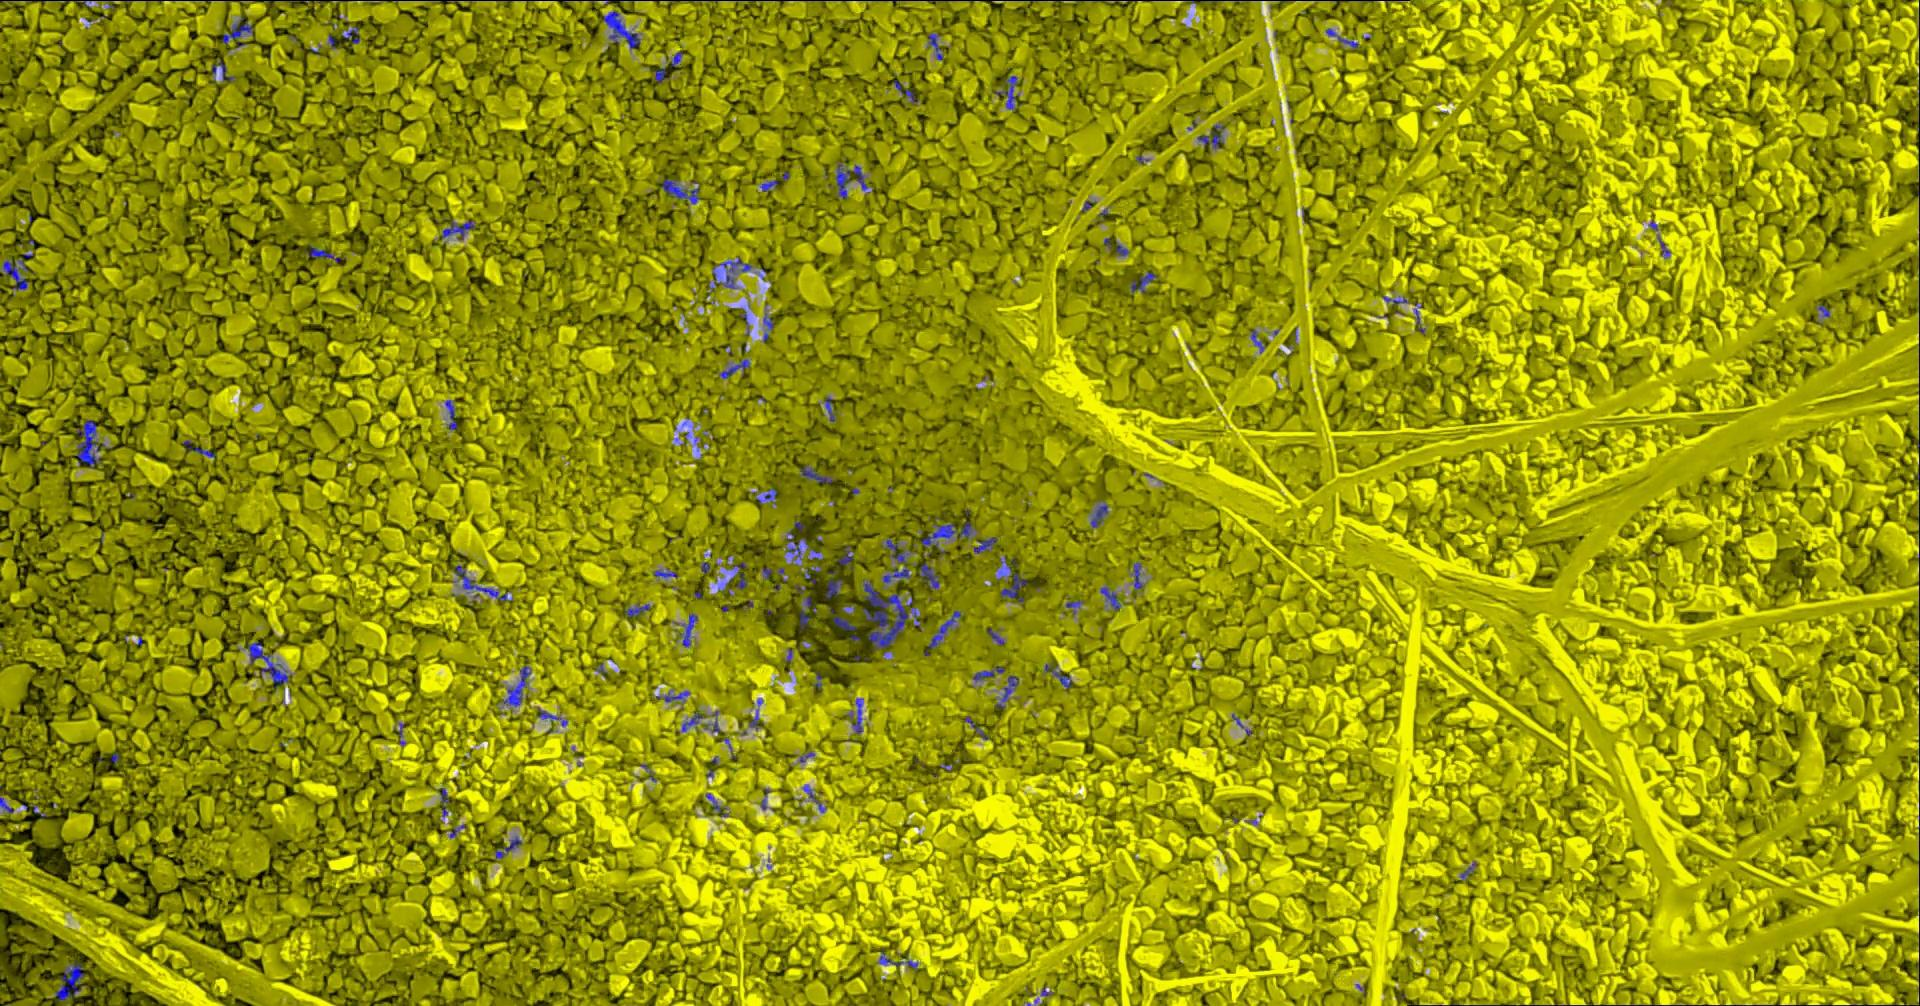ant: (243, 640, 291, 688), (919, 516, 971, 556), (455, 565, 512, 601), (923, 610, 961, 655), (707, 257, 750, 292), (75, 419, 104, 467), (602, 10, 639, 48), (883, 539, 910, 582), (502, 666, 530, 706), (836, 163, 867, 198), (999, 558, 1026, 598), (55, 963, 84, 1000), (221, 17, 253, 47), (662, 178, 698, 203), (994, 674, 1018, 708), (996, 75, 1018, 109), (3, 258, 27, 290), (674, 614, 697, 647), (1324, 28, 1357, 50), (877, 950, 917, 968), (1044, 663, 1070, 688), (441, 218, 474, 239), (844, 699, 863, 733), (1197, 124, 1224, 149), (963, 715, 989, 739), (1098, 586, 1126, 608), (182, 439, 215, 459), (305, 246, 345, 262), (803, 785, 825, 812), (828, 608, 856, 630), (799, 465, 832, 483), (893, 79, 917, 103), (1130, 271, 1156, 293), (719, 359, 749, 379), (537, 708, 568, 727), (494, 836, 521, 857), (918, 561, 938, 589), (211, 58, 235, 81), (785, 531, 801, 564), (705, 793, 728, 815), (971, 666, 1004, 681), (926, 32, 942, 60), (681, 711, 703, 730), (1090, 503, 1107, 527), (730, 561, 745, 588), (973, 536, 997, 553), (837, 545, 853, 569), (655, 690, 688, 701), (824, 578, 842, 598), (1131, 561, 1144, 589), (1250, 329, 1265, 352), (444, 399, 456, 429), (623, 603, 649, 616), (342, 25, 359, 43), (1415, 298, 1423, 333), (987, 627, 1004, 644), (1382, 295, 1410, 305), (439, 788, 450, 815), (824, 396, 836, 420), (803, 567, 819, 583), (799, 607, 811, 627), (1065, 600, 1083, 614), (654, 67, 669, 83), (763, 486, 776, 504), (653, 568, 677, 577), (759, 179, 777, 191), (670, 51, 682, 67), (1115, 241, 1128, 255)
